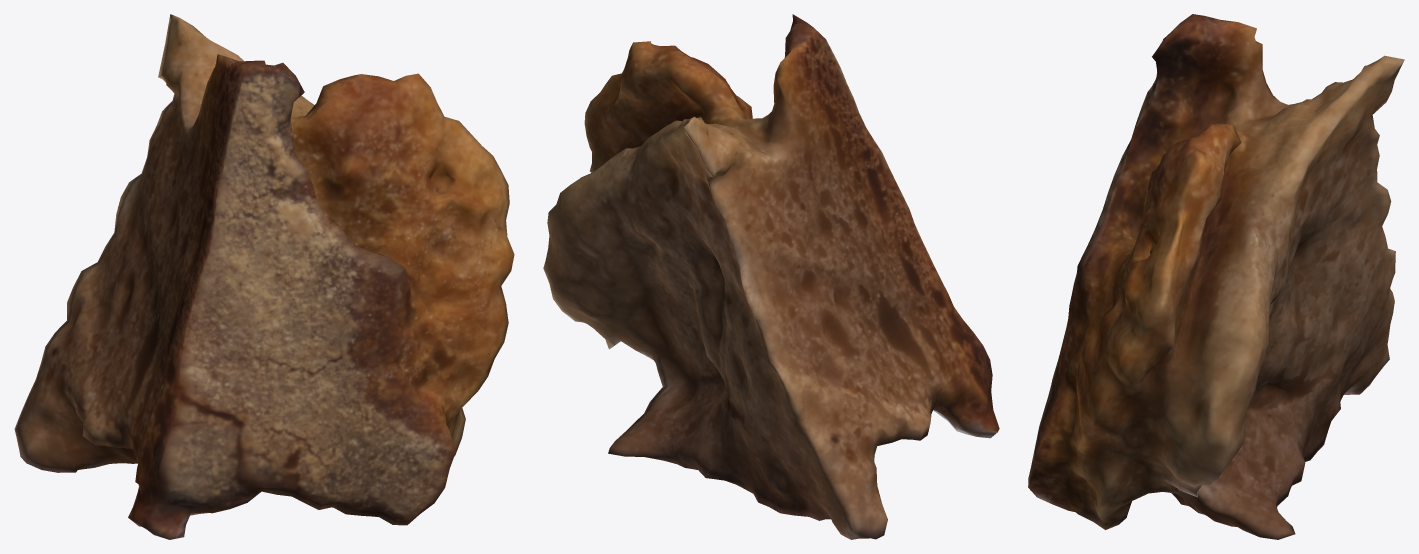
Rendered from Meta_Brotkrumen02_Aufbereitung.fbx.
3 views of the same model, side by side, from view 1: azimuth 30°, elevation 25°; view 2: azimuth 150°, elevation 25°; view 3: azimuth 270°, elevation 25° (orthographic). The views are drawn at different scales.
Visible parts, largest first — view 1: Meta_Brotkrumen02_InstaMesh2Blender_UV_multires.LV0; view 2: Meta_Brotkrumen02_InstaMesh2Blender_UV_multires.LV0; view 3: Meta_Brotkrumen02_InstaMesh2Blender_UV_multires.LV0.
Boxes of the visible parts, left/top/right/bottom form: Meta_Brotkrumen02_InstaMesh2Blender_UV_multires.LV0: left=14, top=14, right=514, bottom=539; Meta_Brotkrumen02_InstaMesh2Blender_UV_multires.LV0: left=543, top=14, right=999, bottom=539; Meta_Brotkrumen02_InstaMesh2Blender_UV_multires.LV0: left=1028, top=14, right=1404, bottom=539.
Bounding box in the file's own units: 2.24 × 2.29 × 1.74.
